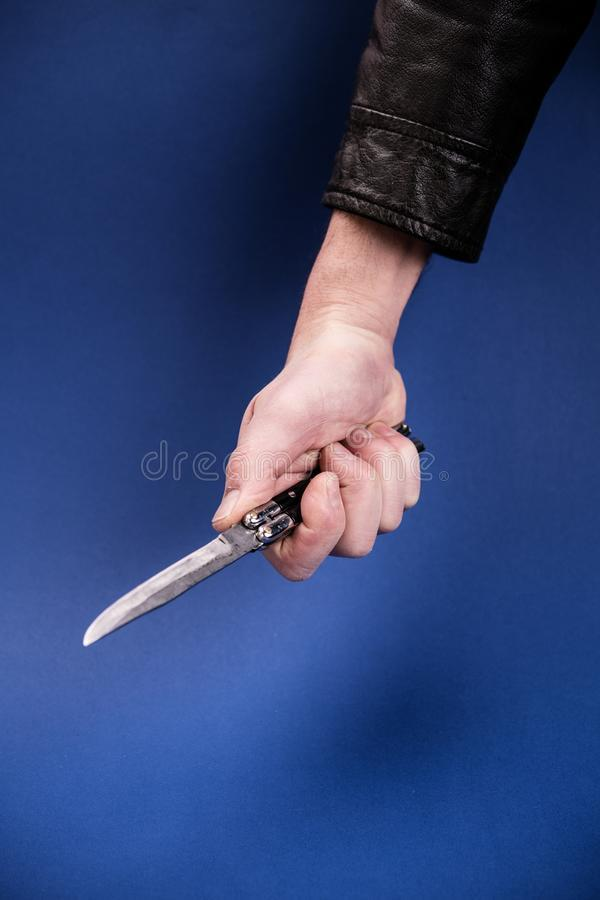weapon: (77, 414, 432, 652)
